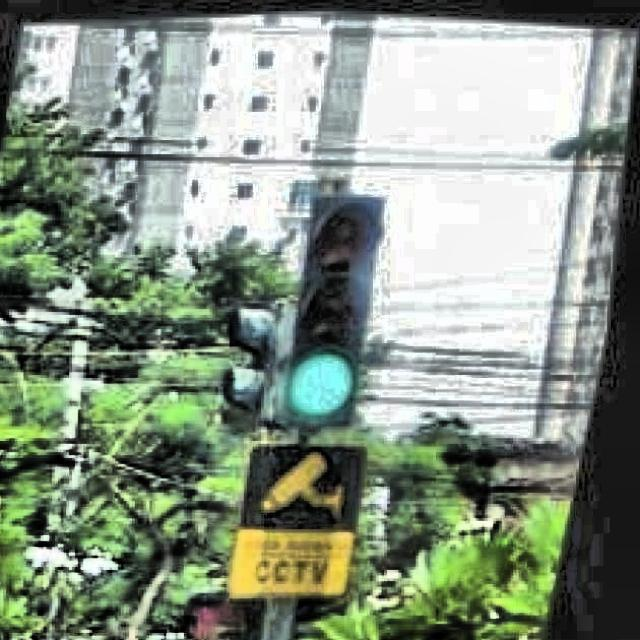green: (294, 195, 372, 435)
